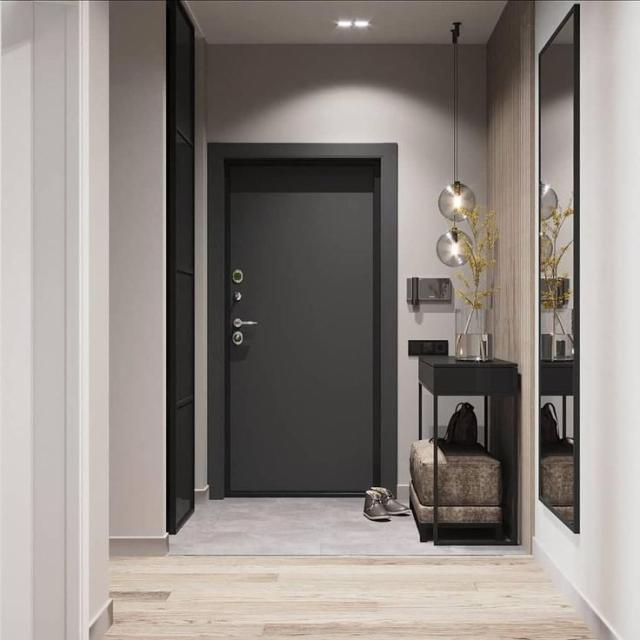close: (216, 155, 390, 501)
